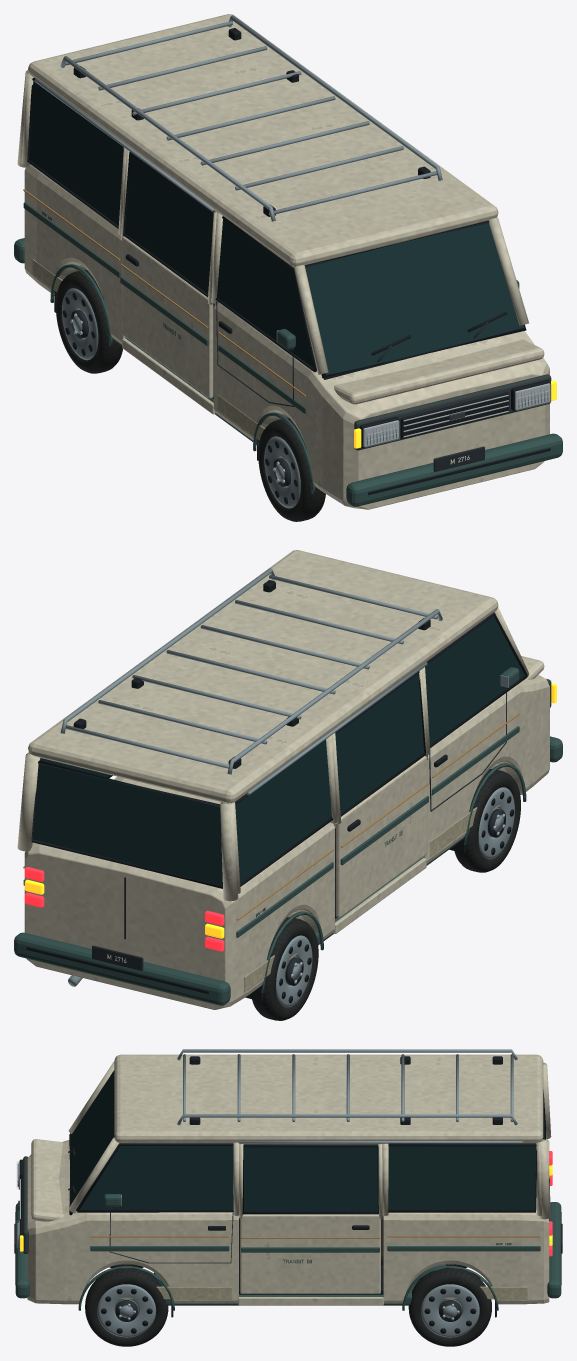
Rendered from 老式市井面包车.glb.
3 renders of one model, top to bottom at view 1: azimuth 30°, elevation 25°; view 2: azimuth 150°, elevation 25°; view 3: azimuth 270°, elevation 25°, orthographic. The views are drawn at different scales.
Visible parts, largest first — view 1: Body, Door.L, Wheel.Front.L, Wheel.Rear.L, Light.Front.L, Light.Front.R; view 2: Body, Door.L, Wheel.Rear.L, Wheel.Front.L, Light.Rear.R, Light.Rear.L; view 3: Body, Door.R, Wheel.Front.R, Wheel.Rear.R.
Boxes of the visible parts, x1,y1,x2,y2 form: Body: [14, 14, 562, 509]; Door.L: [120, 149, 216, 398]; Wheel.Front.L: [258, 418, 325, 521]; Wheel.Rear.L: [56, 270, 122, 373]; Light.Front.L: [354, 416, 399, 448]; Light.Front.R: [511, 379, 556, 410]; Body: [14, 550, 562, 1009]; Door.L: [332, 669, 428, 917]; Wheel.Rear.L: [252, 917, 318, 1020]; Wheel.Front.L: [454, 769, 520, 872]; Light.Rear.R: [24, 867, 44, 907]; Light.Rear.L: [205, 910, 224, 951]; Body: [14, 1049, 562, 1317]; Door.R: [239, 1143, 382, 1293]; Wheel.Front.R: [85, 1269, 168, 1346]; Wheel.Rear.R: [408, 1269, 491, 1346].
Size of the model in its own units: 1.65 by 1.9 by 4.2.
19 materials, 5 textured.
